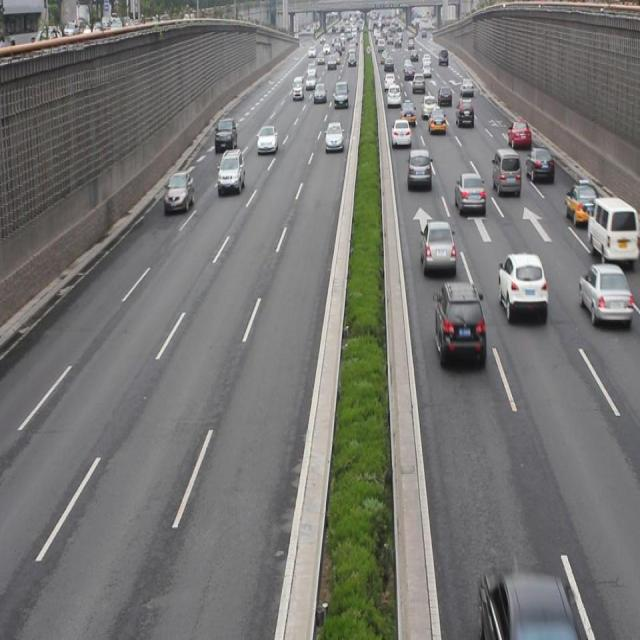car: (477, 570, 578, 640), (432, 281, 487, 372), (577, 262, 640, 326), (498, 252, 547, 322), (420, 218, 456, 276), (565, 182, 600, 226), (454, 170, 485, 216), (164, 170, 195, 215), (218, 147, 245, 194), (407, 146, 432, 194), (526, 143, 554, 184), (214, 115, 237, 153), (508, 118, 532, 153), (390, 116, 410, 151), (256, 124, 278, 155), (324, 121, 344, 153), (456, 98, 474, 128), (428, 107, 446, 134), (400, 98, 414, 122)
truck: (586, 196, 640, 263), (492, 148, 520, 197)
